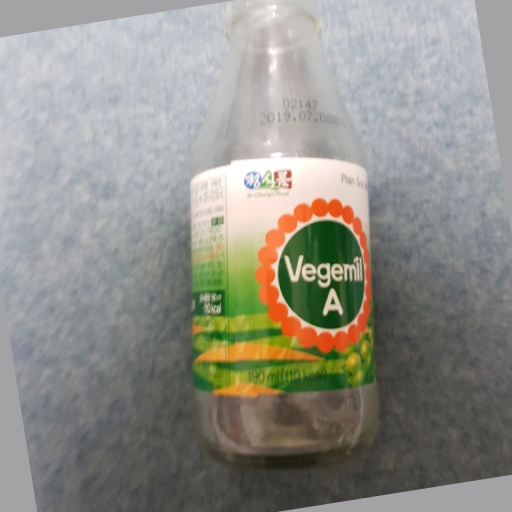Glass_4: (180, 1, 381, 469)
